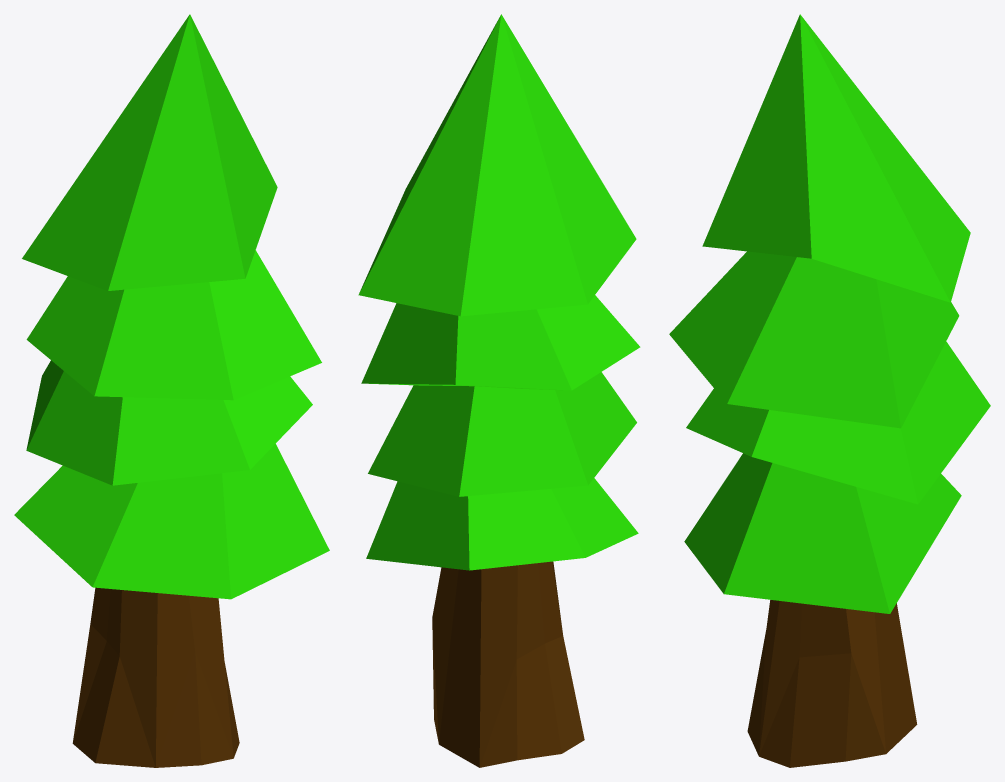
Rendered from Pine tree#3.fbx.
3 views of the same model, side by side, from view 1: azimuth 30°, elevation 25°; view 2: azimuth 150°, elevation 25°; view 3: azimuth 270°, elevation 25° (orthographic). The views are drawn at different scales.
Visible parts, largest first — view 1: Pine tree#3; view 2: Pine tree#3; view 3: Pine tree#3.
Boxes of the visible parts, box(x1,y1,x2,y2) form: Pine tree#3: box(14, 14, 329, 767); Pine tree#3: box(358, 14, 640, 767); Pine tree#3: box(669, 14, 990, 767).
Bounding box in the file's own units: 420 × 1265 × 504.
